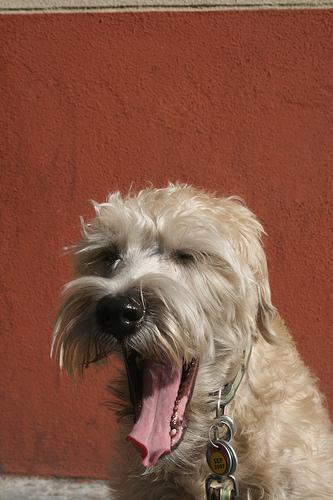dog-wheaten_terrier: (70, 187, 268, 466)
